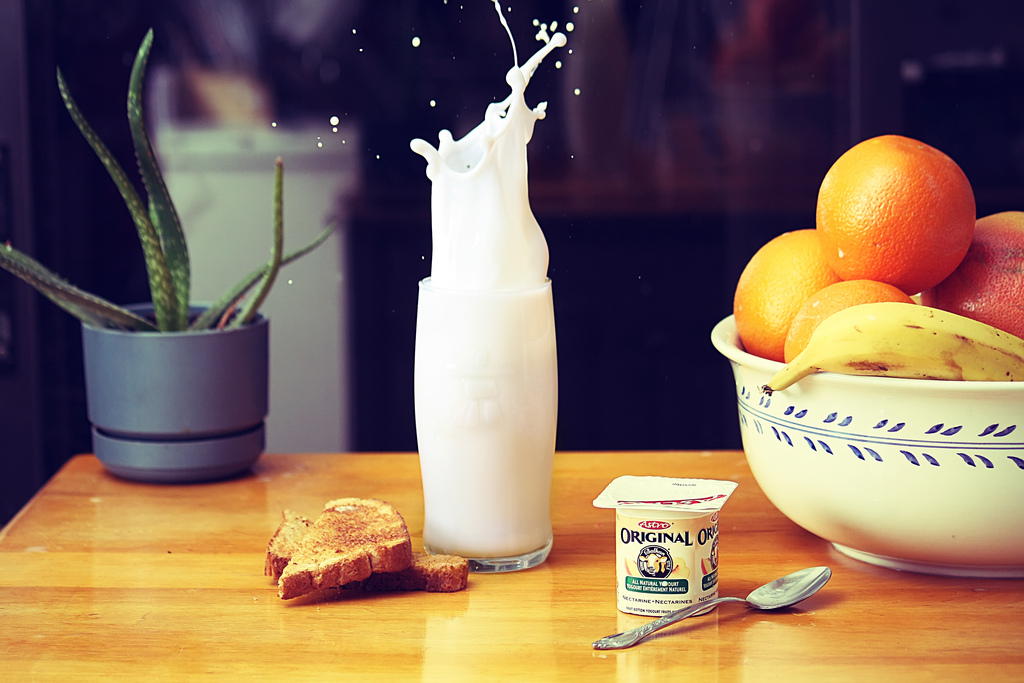glass of milk: (414, 56, 569, 585)
slice of bread: (273, 501, 471, 598)
